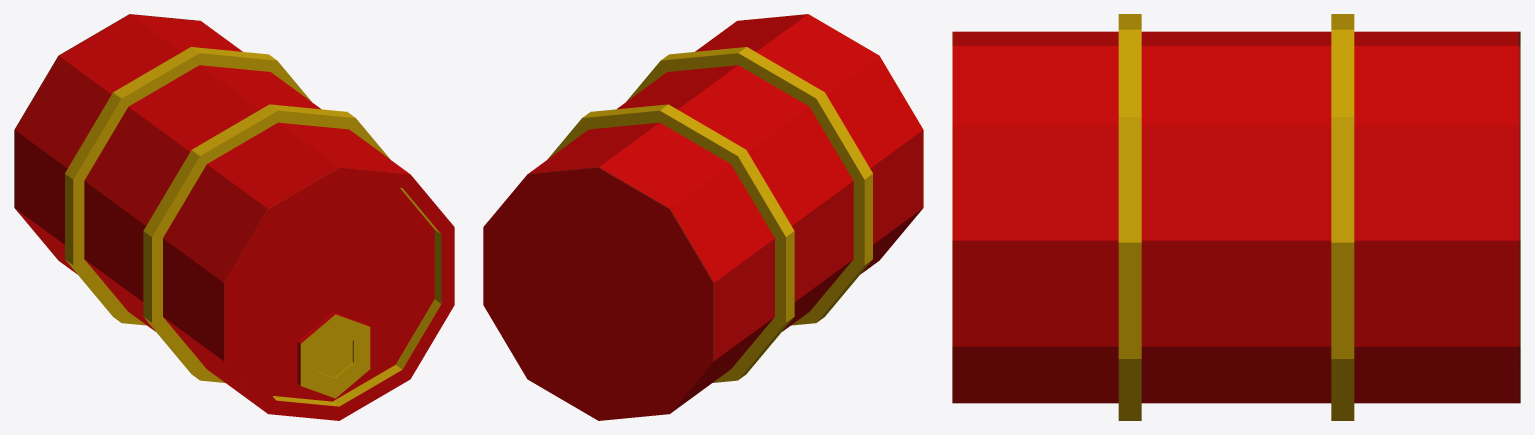
The model's file is OilDrum.fbx.
The picture shows the model from 3 angles, left to right: view 1: azimuth 30°, elevation 25°; view 2: azimuth 150°, elevation 25°; view 3: azimuth 270°, elevation 25°; orthographic projection. The views are drawn at different scales.
Parts seen in each view (by area): view 1: OilDrum_03; view 2: OilDrum_03; view 3: OilDrum_03.
Part boxes in pixels (<box>): OilDrum_03: <box>14,14,454,420</box>; OilDrum_03: <box>483,14,923,420</box>; OilDrum_03: <box>952,14,1520,420</box>.
Bounding box in the file's own units: 3.26 × 4.7 × 3.43.
